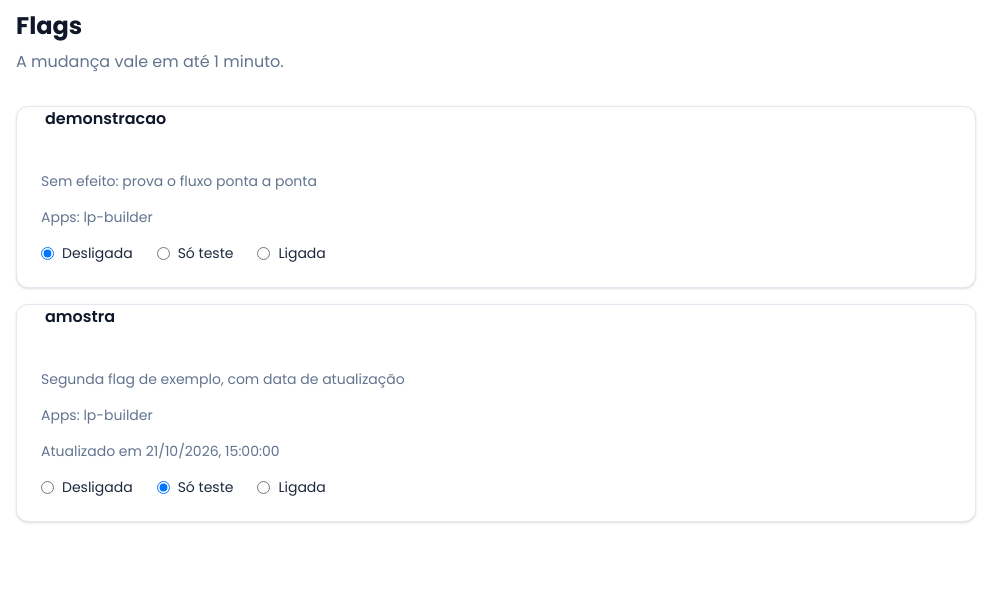
it: Página de flags › duas flags que falham ao mesmo tempo mostram dois alertas, cada um no seu cartão
expect the element "demonstracao" is shown: met, box x1=41 y1=107 x2=326 y2=263
Click the radio button labelled "Só teste" below "Sem efeito: prova o fluxo ponta a ponta". click: (163, 253)
box: x1=157 y1=246 x2=170 y2=260
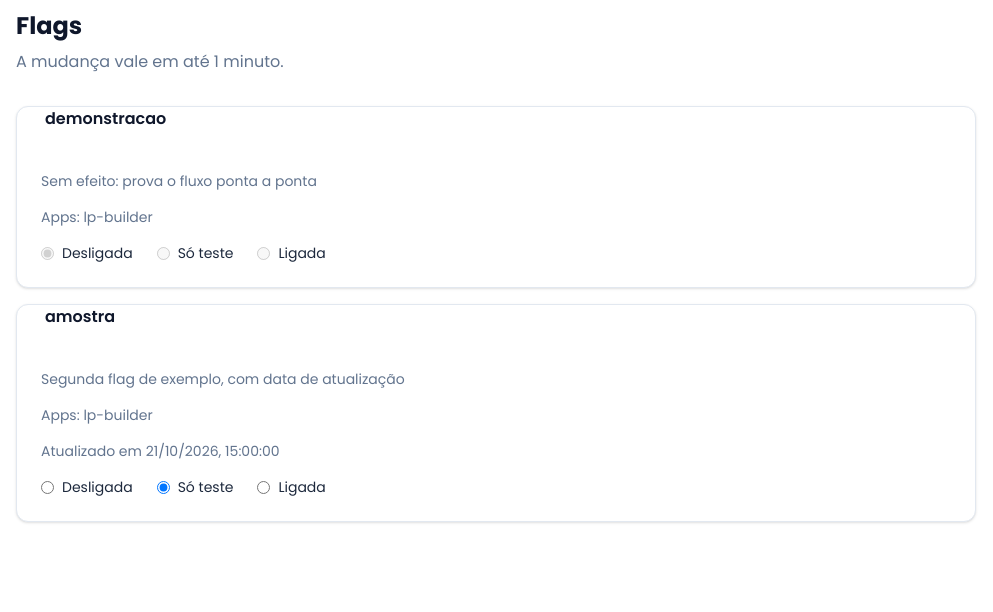
Click the radio button labelled "Desligada" below "Atualizado em". click: (48, 487)
box: x1=41 y1=480 x2=54 y2=494
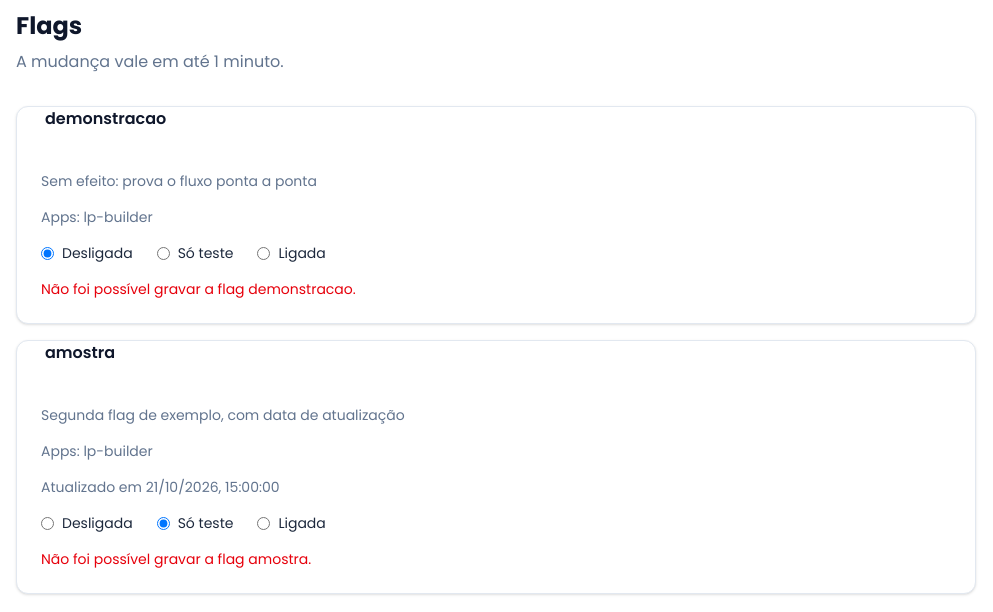
expect the number of messages is 2: met, box x1=41 y1=279 x2=356 y2=299; x1=41 y1=549 x2=311 y2=569
expect the message "Não foi possível gravar a flag demonstracao." is shown: met, box x1=41 y1=279 x2=356 y2=299
expect the message "Não foi possível gravar a flag amostra." is shown: met, box x1=41 y1=549 x2=311 y2=569
